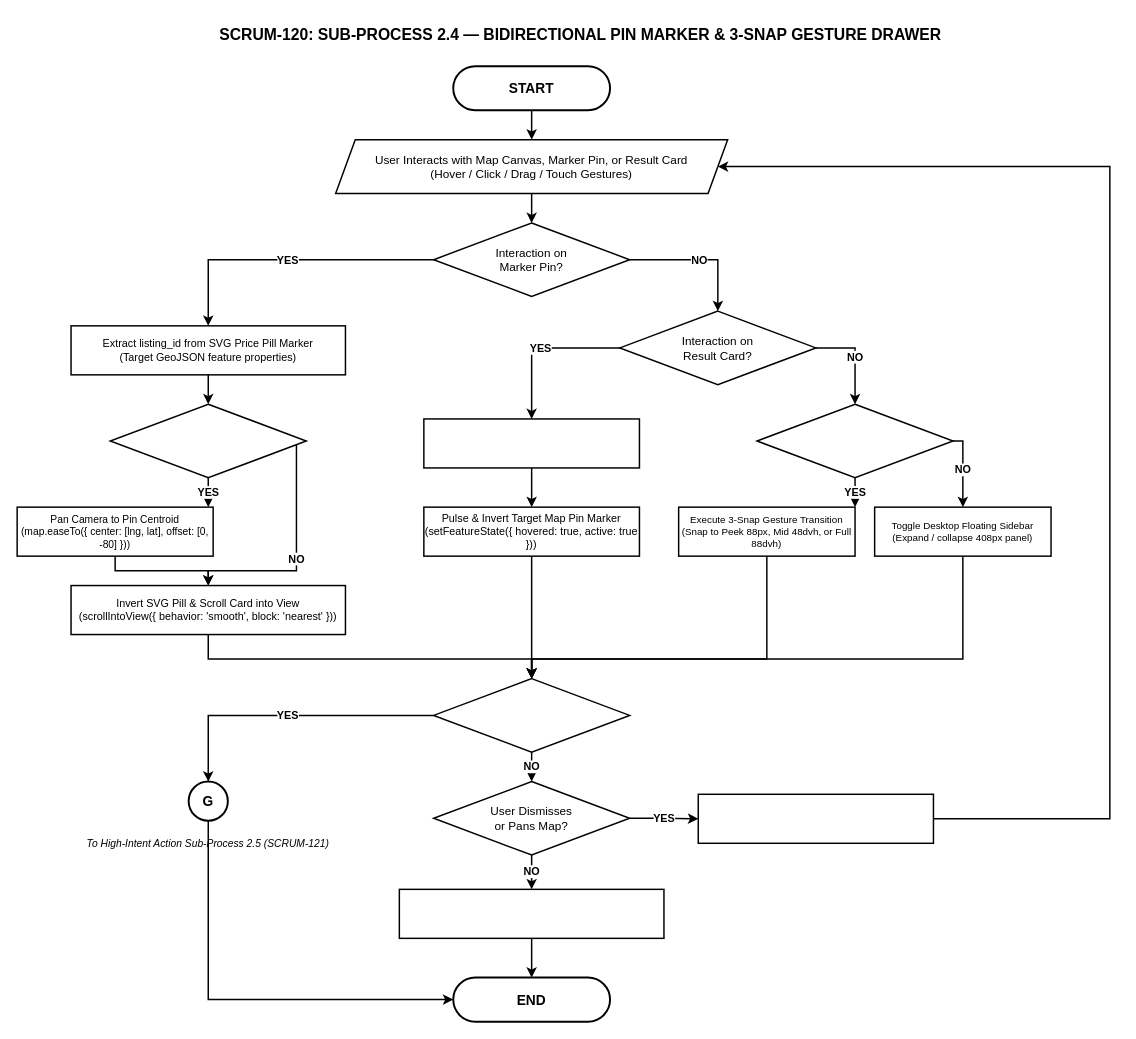
The diagram is 1136 pixels wide and 1039 high, and some of its shapes have lost their labels. The shapes that lost their labels are listed below. From the top down, each one's centre as x and y in pixels, then its label:
At [208,440]: "Center Viewport on Pin?".
At [531,443]: "Card Hover / Click Event Triggered (Extract data-listing-id from card container)".
At [854,440]: "Mobile Viewport Active?".
At [531,714]: "High-Intent Action Triggered?".
At [815,818]: "Reset Active Highlight States (Revert pin & card active borders)".
At [531,913]: "Retain Active Selection & Visible Details (Keep current card & pin highlighted)".
